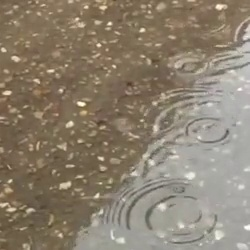drop: (108, 177, 218, 247), (187, 118, 229, 145), (174, 54, 206, 78), (113, 117, 135, 134)
